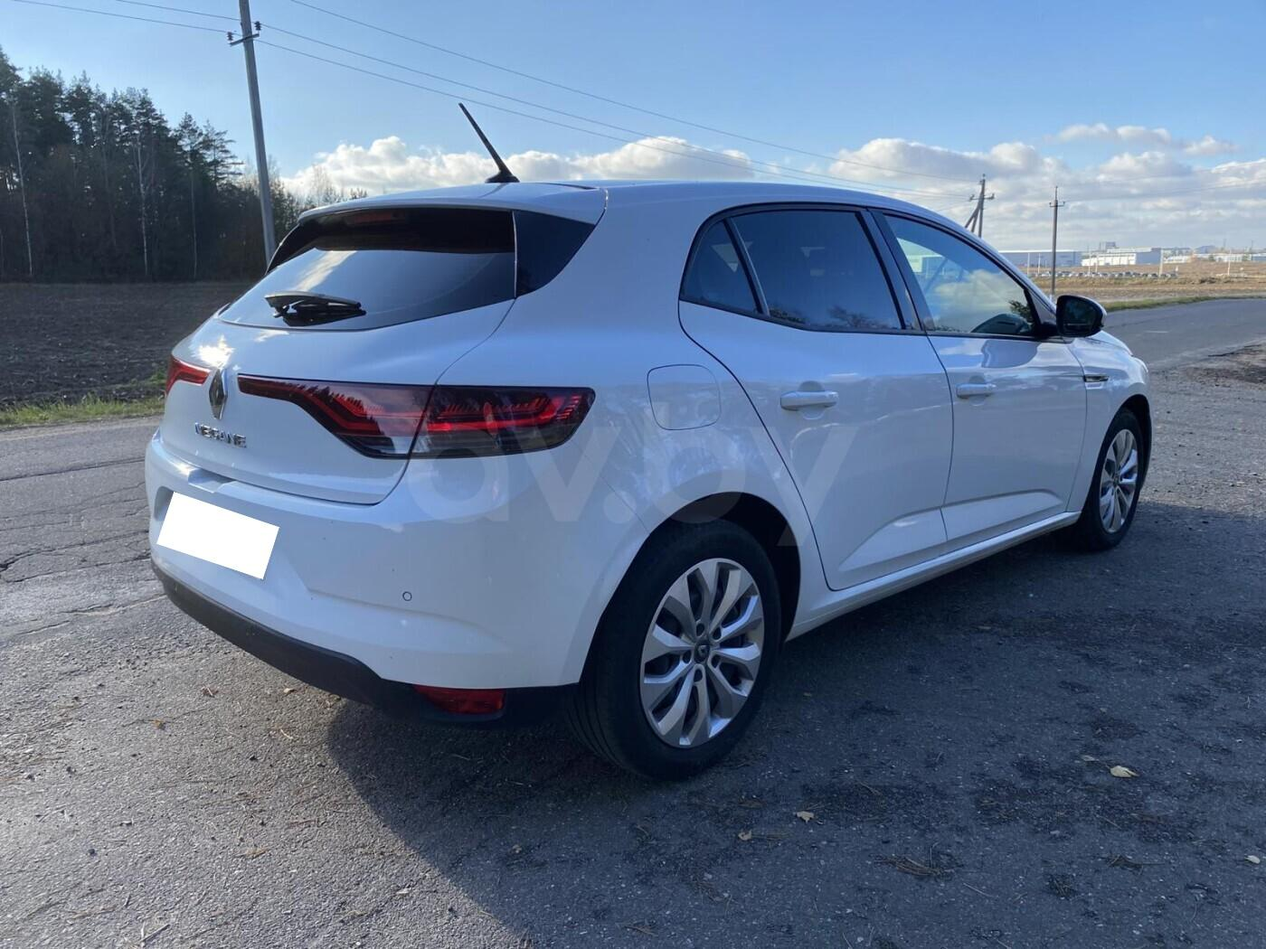Megane_2020: (140, 178, 1154, 784)
